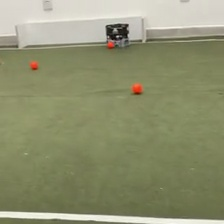ball: (131, 81, 142, 94), (29, 59, 39, 70), (106, 39, 114, 48)
goal: (12, 14, 147, 49)
robot: (104, 22, 130, 49)
